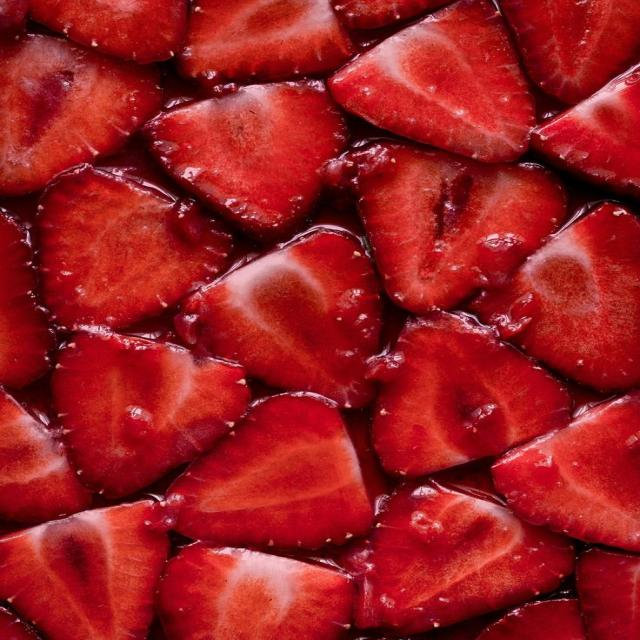strawberry sliced: (330, 142, 566, 313), (176, 229, 380, 406), (347, 481, 574, 633), (330, 0, 534, 161), (53, 332, 249, 497), (374, 311, 569, 476), (167, 394, 372, 548), (145, 81, 346, 238), (37, 166, 232, 327), (473, 203, 639, 391), (0, 35, 161, 195), (493, 392, 639, 550), (0, 501, 167, 639), (157, 544, 353, 639), (179, 0, 355, 85), (500, 0, 639, 103), (532, 66, 639, 197), (0, 389, 91, 523), (29, 0, 187, 63), (0, 209, 54, 387), (576, 549, 639, 639), (344, 408, 392, 502), (477, 599, 586, 639), (334, 0, 446, 29), (0, 606, 39, 639), (0, 0, 28, 41)
